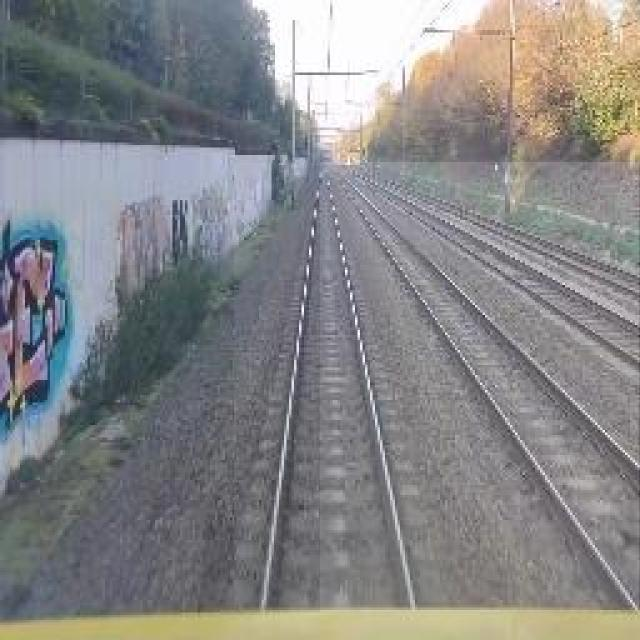rail: (321, 164, 640, 613), (236, 164, 446, 611)
